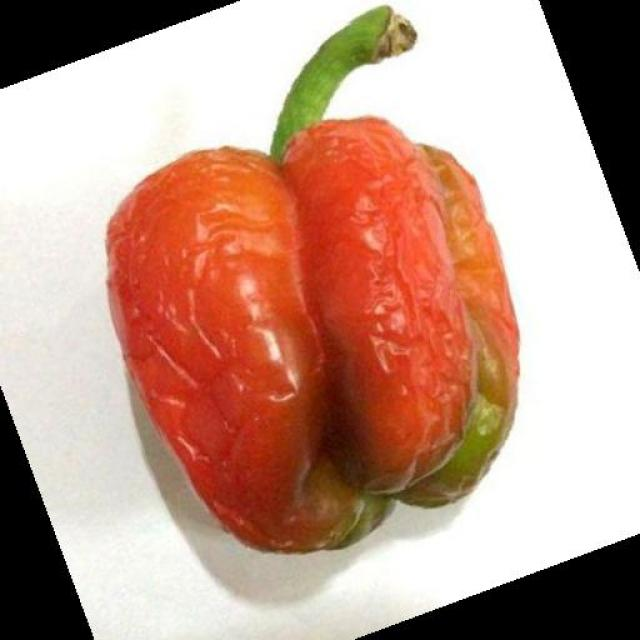Stale_Capsicum: (121, 102, 526, 507)
